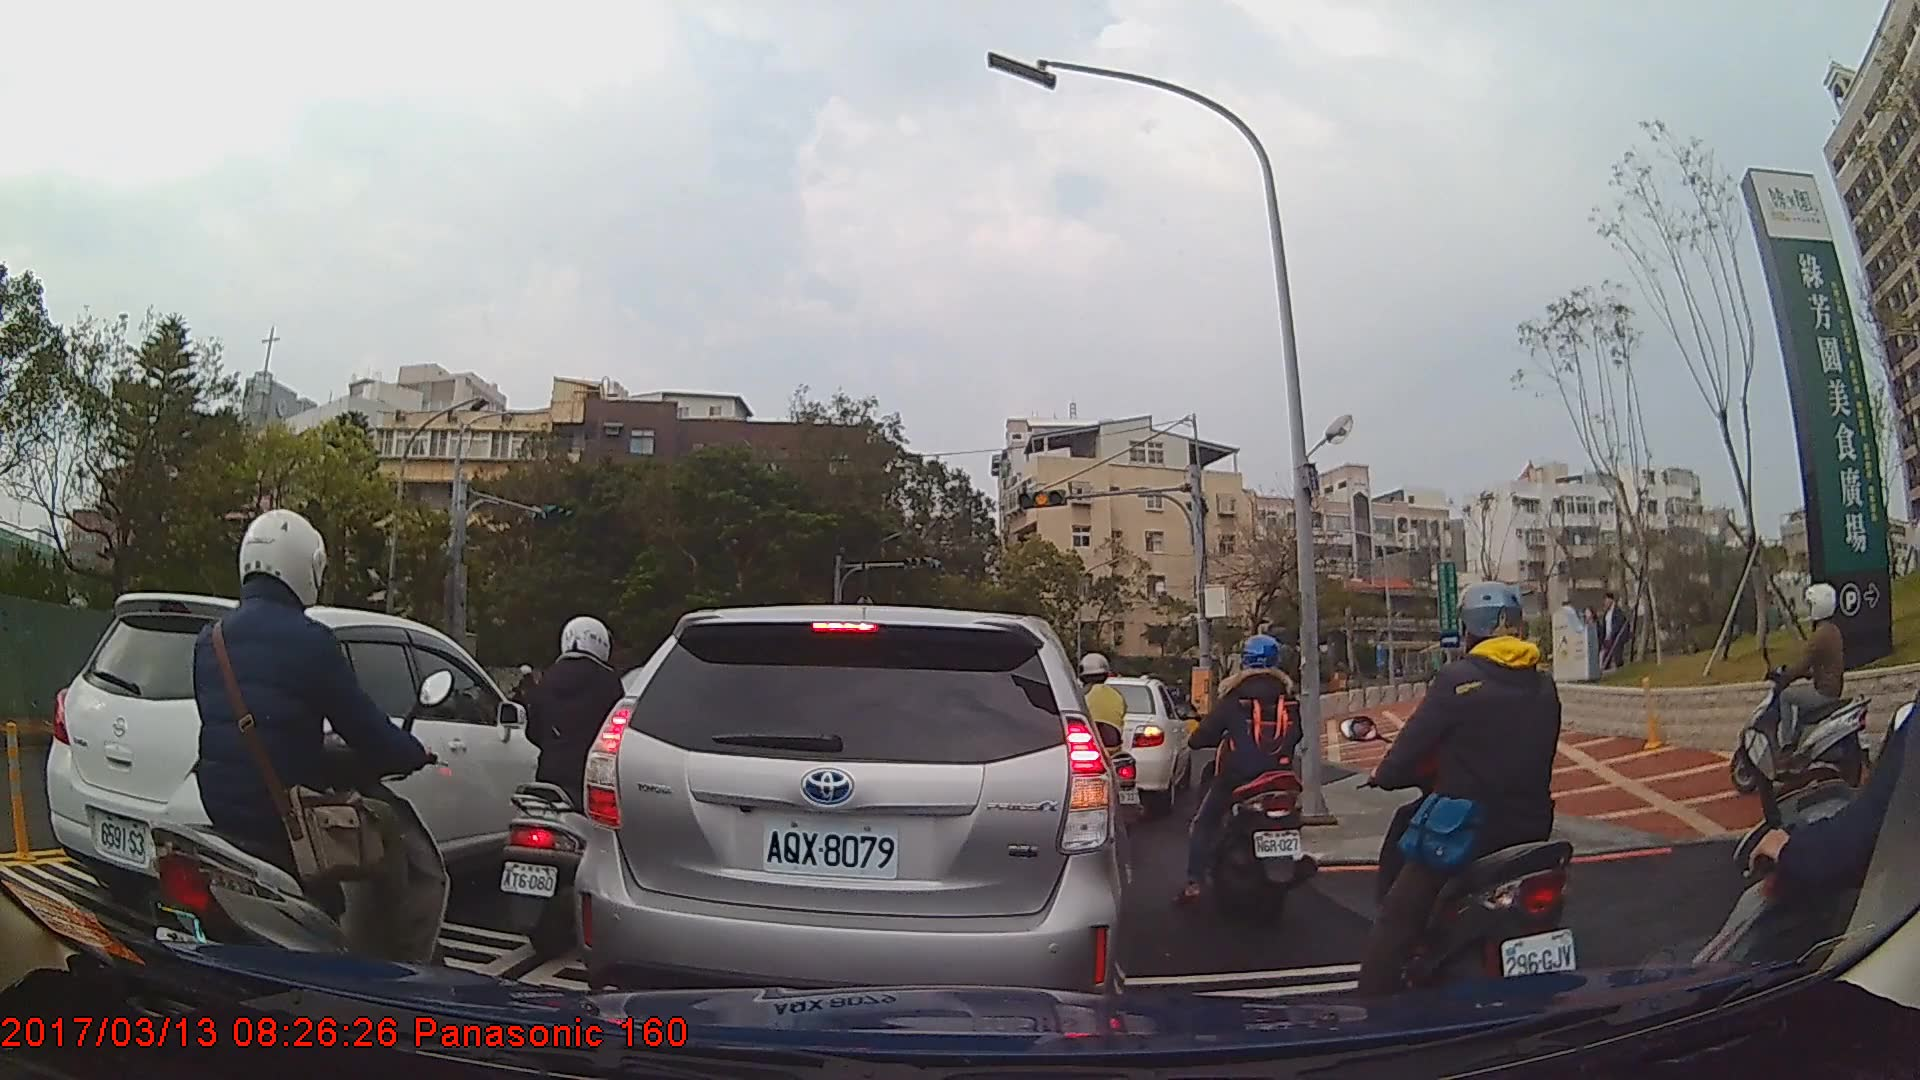pedestrian: (1593, 583, 1636, 681), (1575, 597, 1611, 688)
rider: (135, 507, 460, 1039), (1339, 578, 1587, 1026), (491, 611, 652, 962), (1169, 632, 1323, 931), (1728, 581, 1872, 797), (1055, 654, 1143, 840)
vehicle: (569, 601, 1139, 1032), (41, 591, 572, 927), (1057, 673, 1193, 813)
